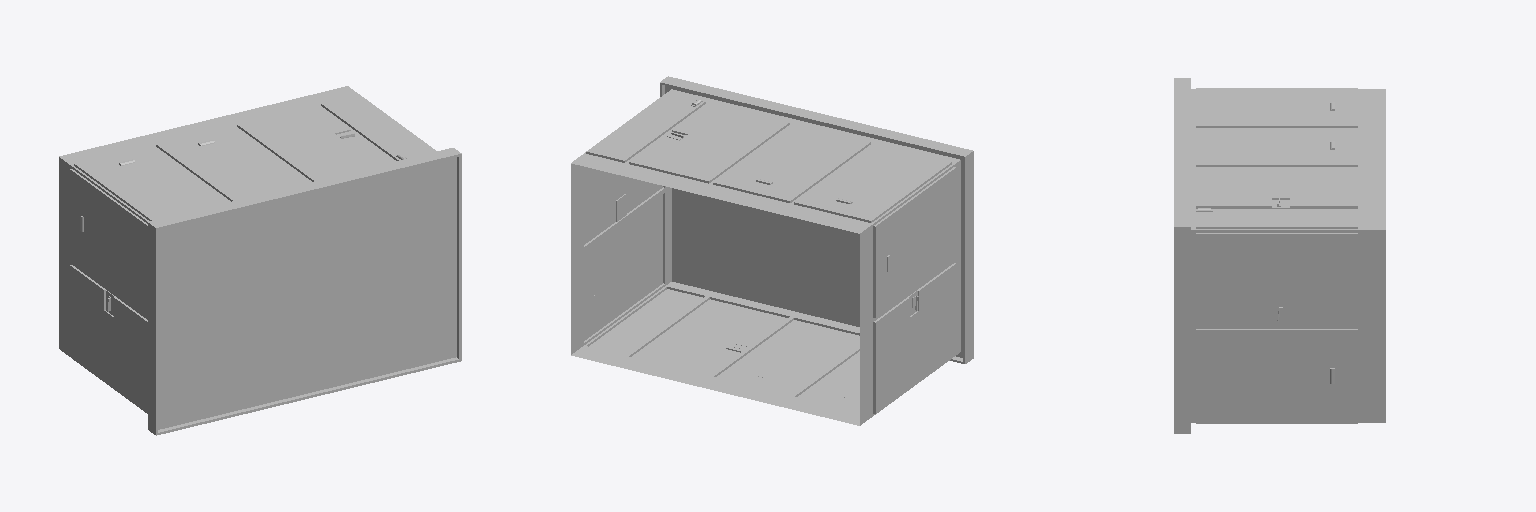
The model's file is GeneratorShack.obj.
3 renders of one model, left to right at view 1: azimuth 30°, elevation 25°; view 2: azimuth 150°, elevation 25°; view 3: azimuth 270°, elevation 25°, orthographic.
Visible parts, largest first — view 1: GeneratorShack; view 2: GeneratorShack; view 3: GeneratorShack.
Boxes of the visible parts, x1=… form: GeneratorShack: x1=59, y1=86, x2=461, y2=435; GeneratorShack: x1=571, y1=76, x2=973, y2=425; GeneratorShack: x1=1174, y1=78, x2=1385, y2=433.
Bounding box in the file's own units: 4.98 × 3.23 × 2.98.